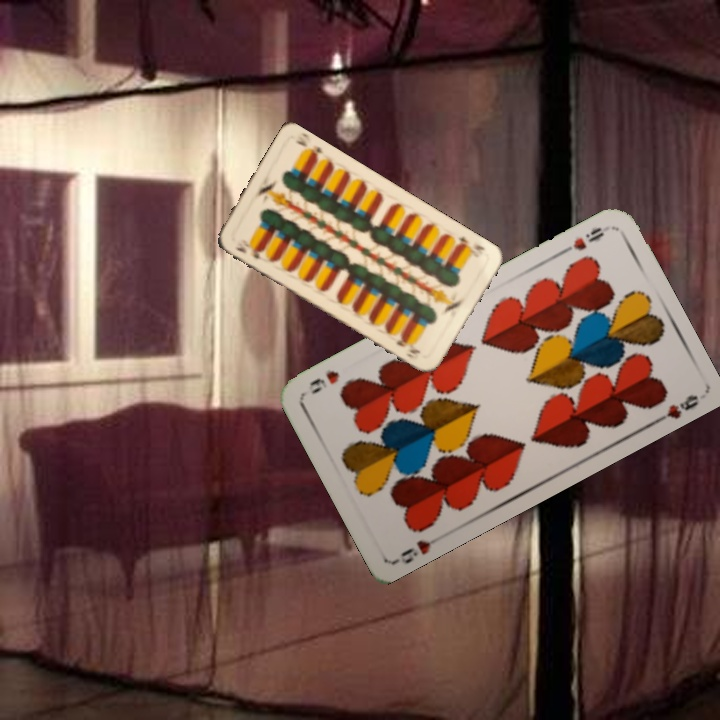E10: (452, 232, 487, 253), (230, 243, 264, 262)
H9: (556, 223, 607, 258), (397, 536, 433, 565)
